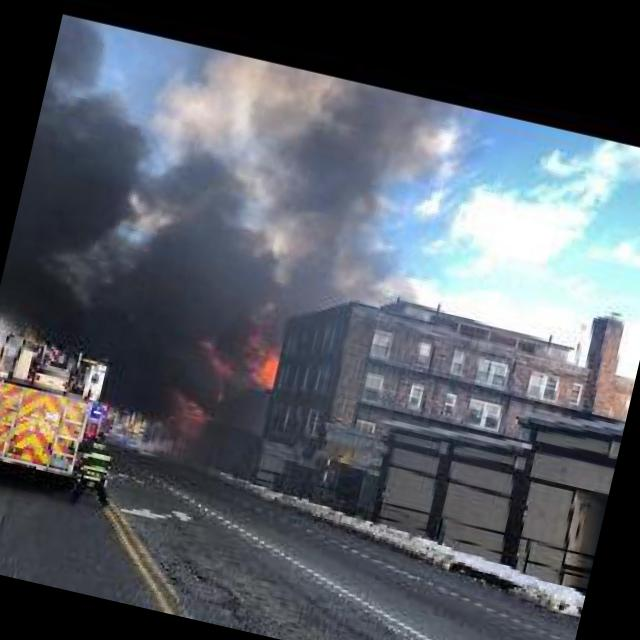fire: (248, 324, 298, 402)
smoke: (0, 14, 322, 394), (230, 66, 477, 359), (98, 366, 245, 473)
